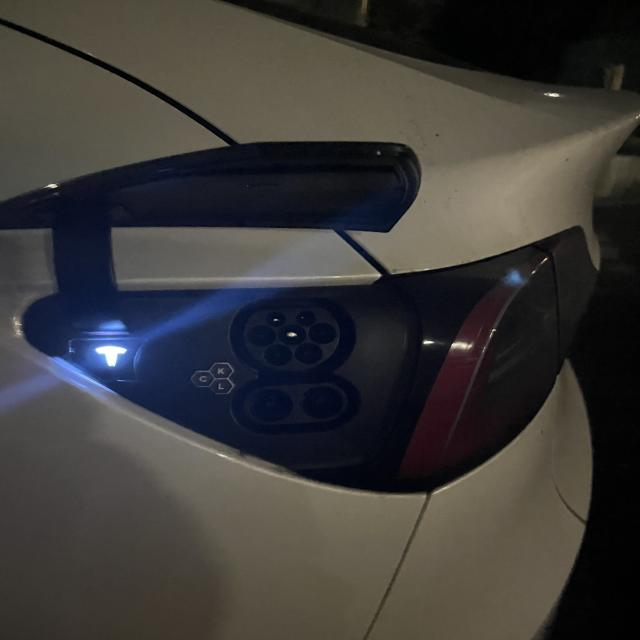inlet: (243, 307, 340, 370)
inlet-above-right: (297, 311, 316, 326)
inlet-below-left: (264, 344, 293, 366), (266, 311, 286, 326)
inlet-below-right: (294, 343, 323, 364)
inlet-circle: (278, 324, 306, 345)
inlet-circle-left: (248, 325, 276, 346)
inlet-circle-right: (308, 323, 336, 344)
inlet-minus: (298, 386, 343, 418)
inlet-plus: (248, 389, 294, 421)
